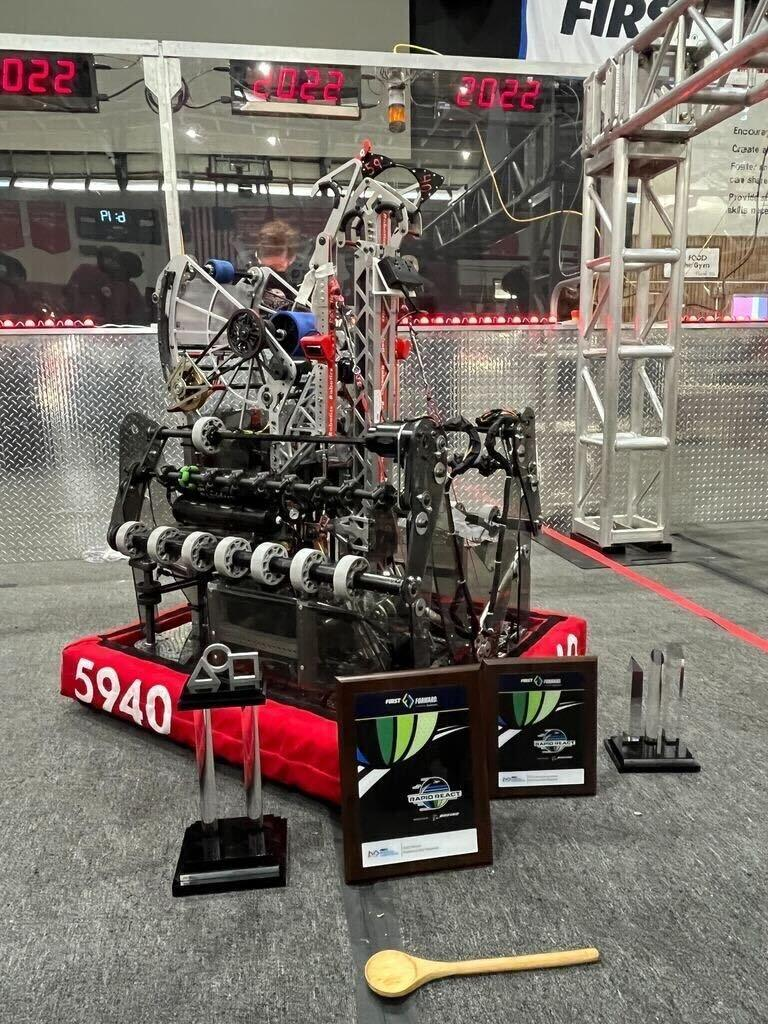robot: (48, 142, 606, 842)
